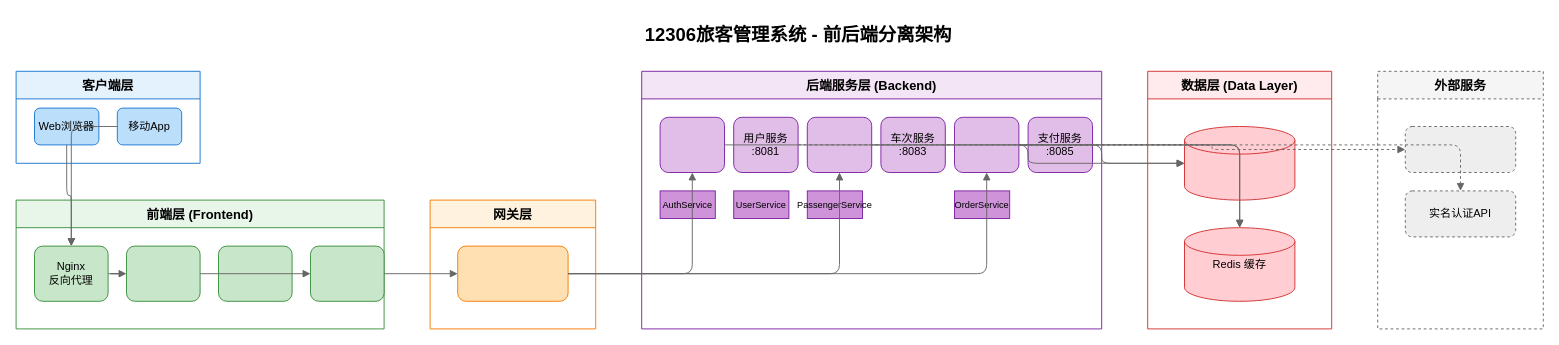
Some shapes in this 1559 by 345 pixel diagram are drawn without their labels. Each missing label, with the centre of its shape:
Axios HTTP客户端: pixel 347 273
MySQL 8.0 主数据库: pixel 1239 163
Pinia 状态管理: pixel 255 273
Spring Cloud Gateway: pixel 512 273
Vue3应用: pixel 163 273
支付宝/微信支付: pixel 1460 149
旅客服务 :8082: pixel 839 144
订单服务 :8084: pixel 986 144
认证服务 :8080: pixel 691 144
